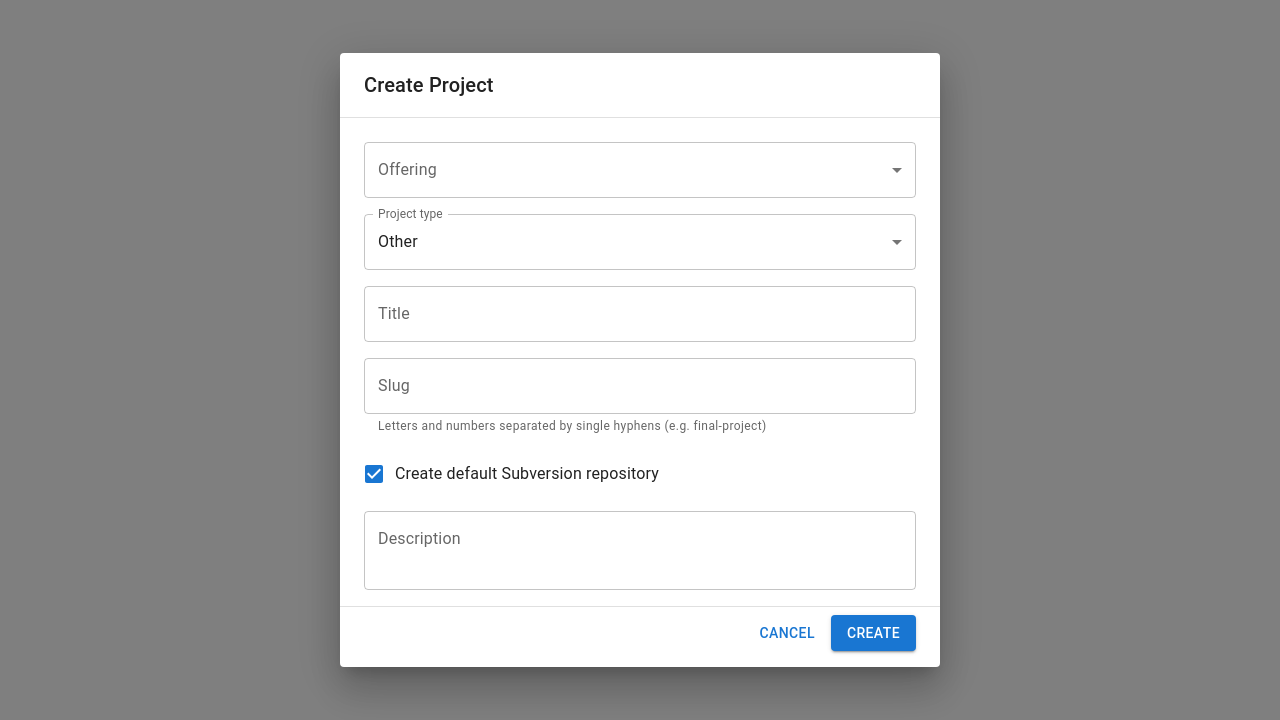
Scenario: ProjectForm › rejects slugs that do not match the server format
The width and height of the screenshot is (1280, 720).
Click the dropdown named "Offering" at (640, 170), box [364,142,916,198]
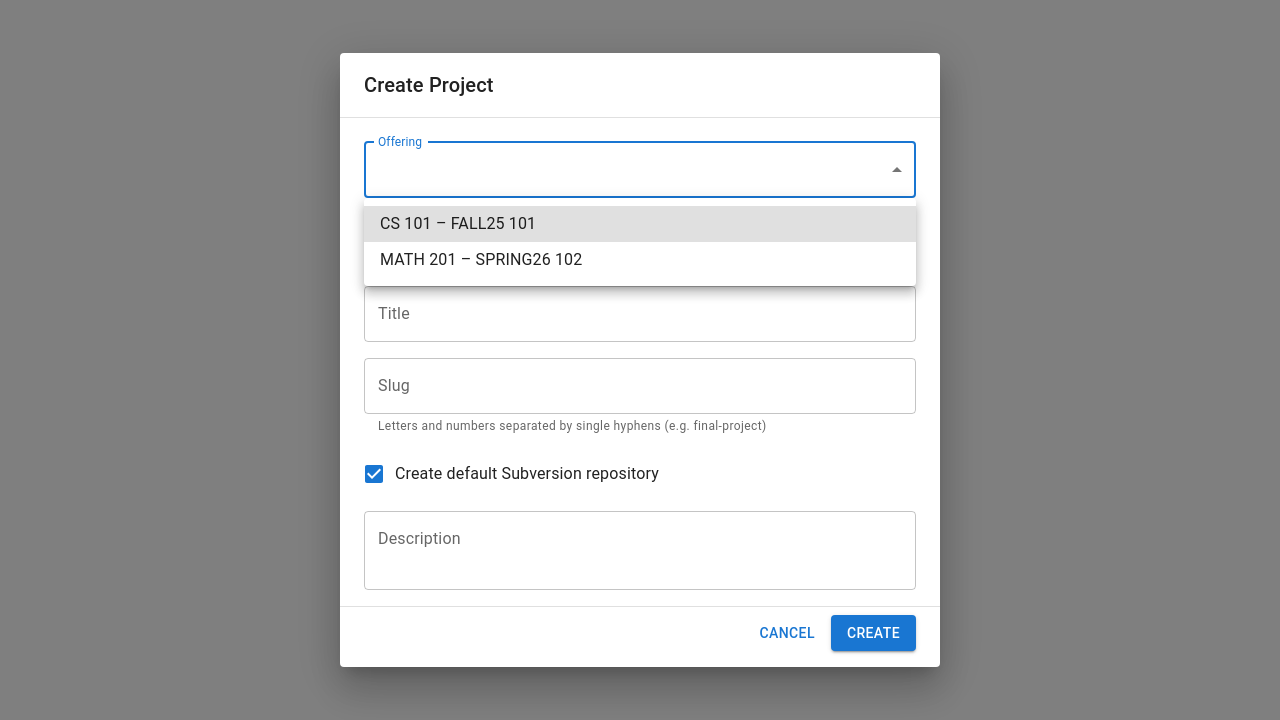
Click the option "CS 101 – FALL25 101" at (458, 224), box [364,206,916,242]
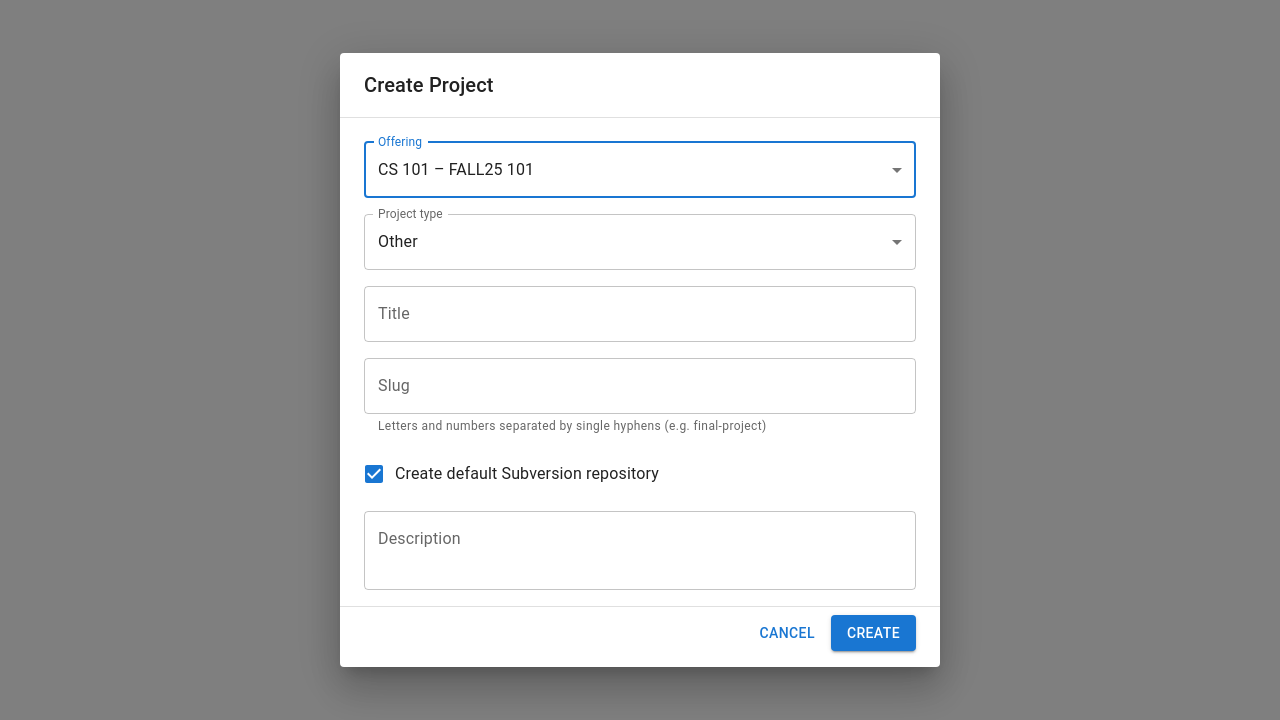
Type "Final Project" into the field labelled "Title" at (640, 314), box [364,286,916,342]
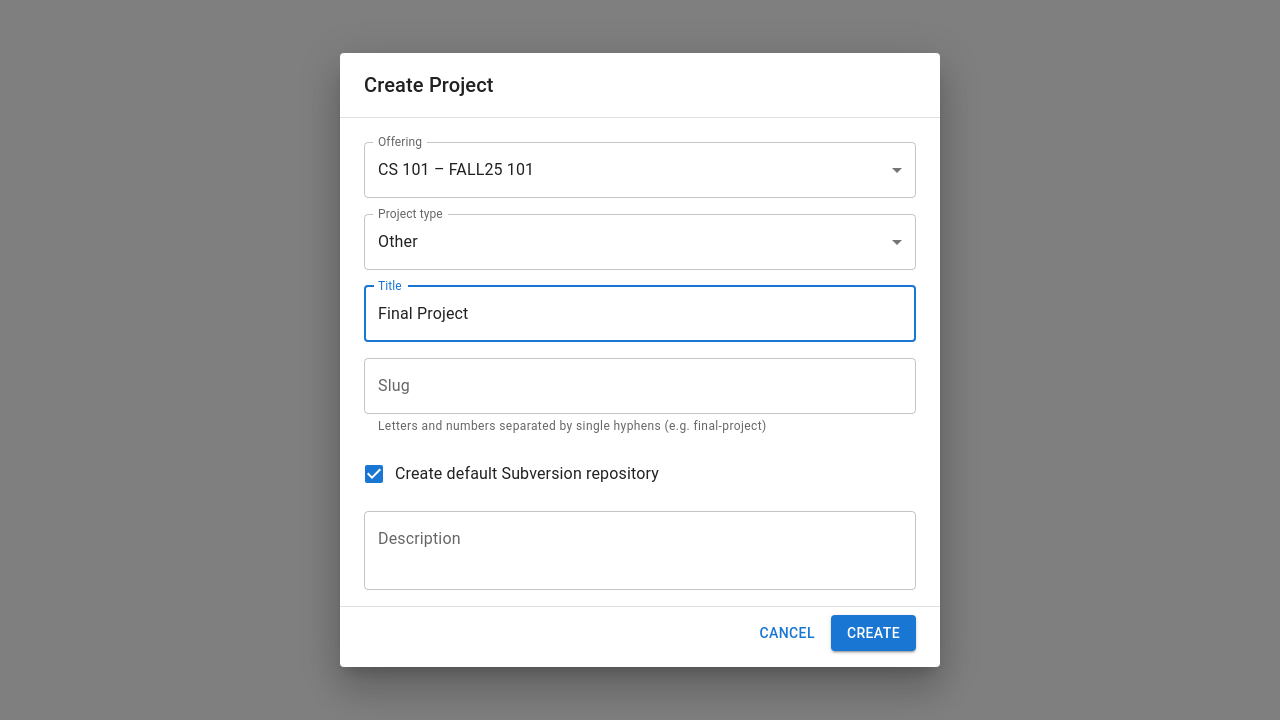
Type "Bad Slug" into the field labelled "Slug" at (640, 386), box [364,358,916,414]
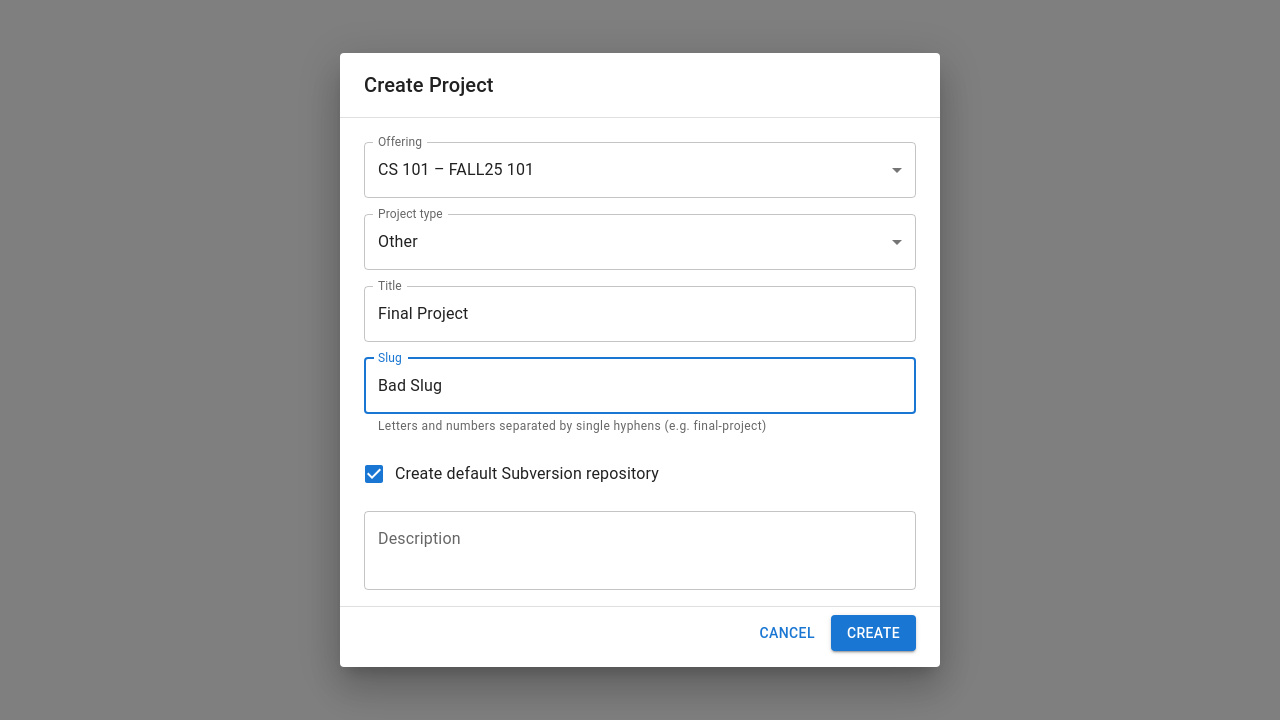
Click the button "Create" at (873, 633), box [831,615,916,651]
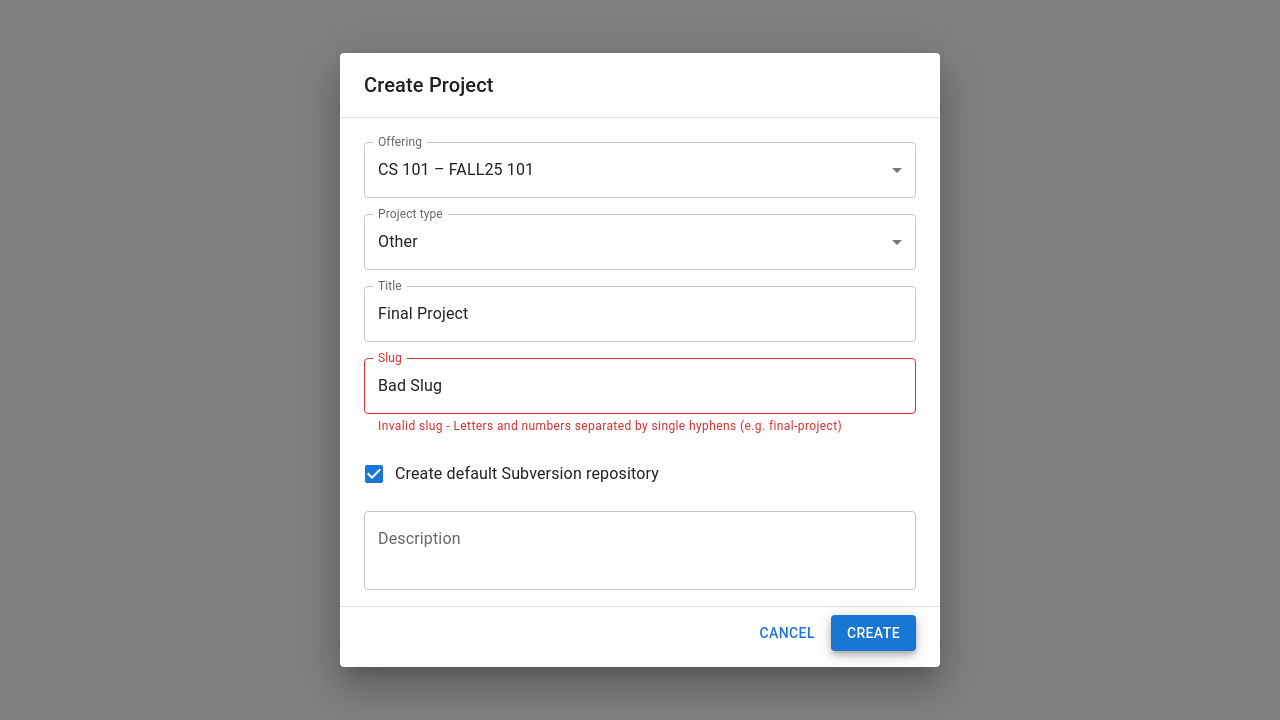
Expected: the text "Invalid slug" is shown, [378,419,842,433]
